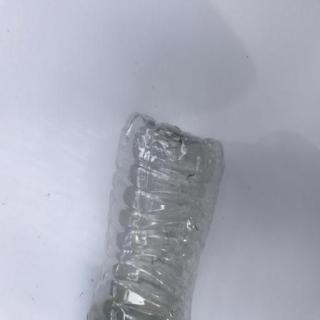Plastic-bottle: (87, 110, 227, 320)
